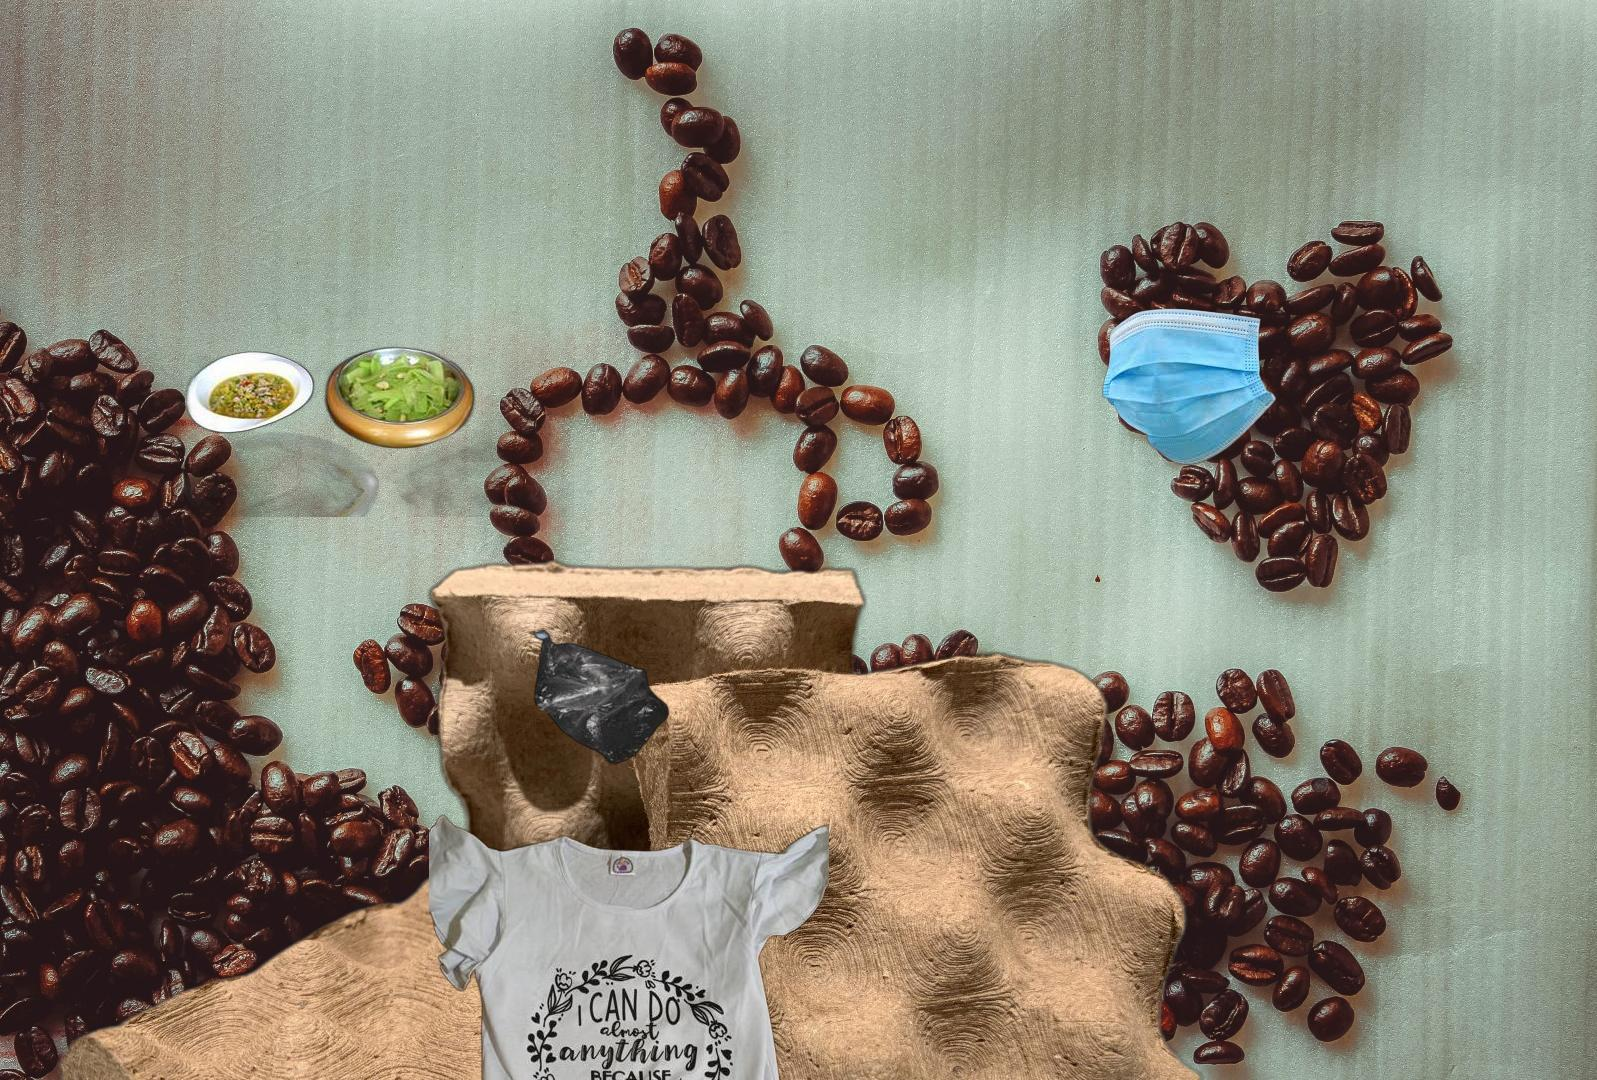biological: (117, 263, 574, 517)
clothes: (429, 811, 829, 1080)
glass: (544, 1004, 987, 1080)
plastic-bag: (530, 626, 671, 768)
trash: (1100, 306, 1319, 468)
trashbox-cardboard: (48, 554, 1214, 1080)
